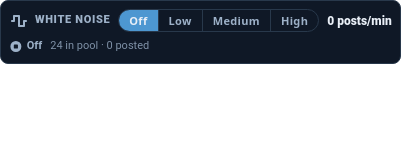
Test: NoiseControl (mock data) › reads Off from the mock and round-trips a level change
Expected: the message with test id "noise-status" reads "Off", [27,39,42,52]
Expected: the text with test id "noise-counts" reads "24 in pool · 0 posted", [50,39,149,52]
Click the radio button labelled "Medium": click(236, 20) [202,10,270,31]
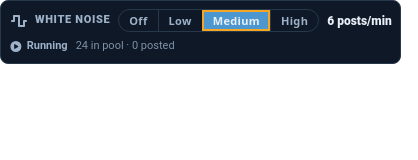
Expected: the text with test id "noise-rate" reads "6 posts/min", [327,14,392,28]
Expected: the message with test id "noise-status" reads "Running", [27,39,68,52]
